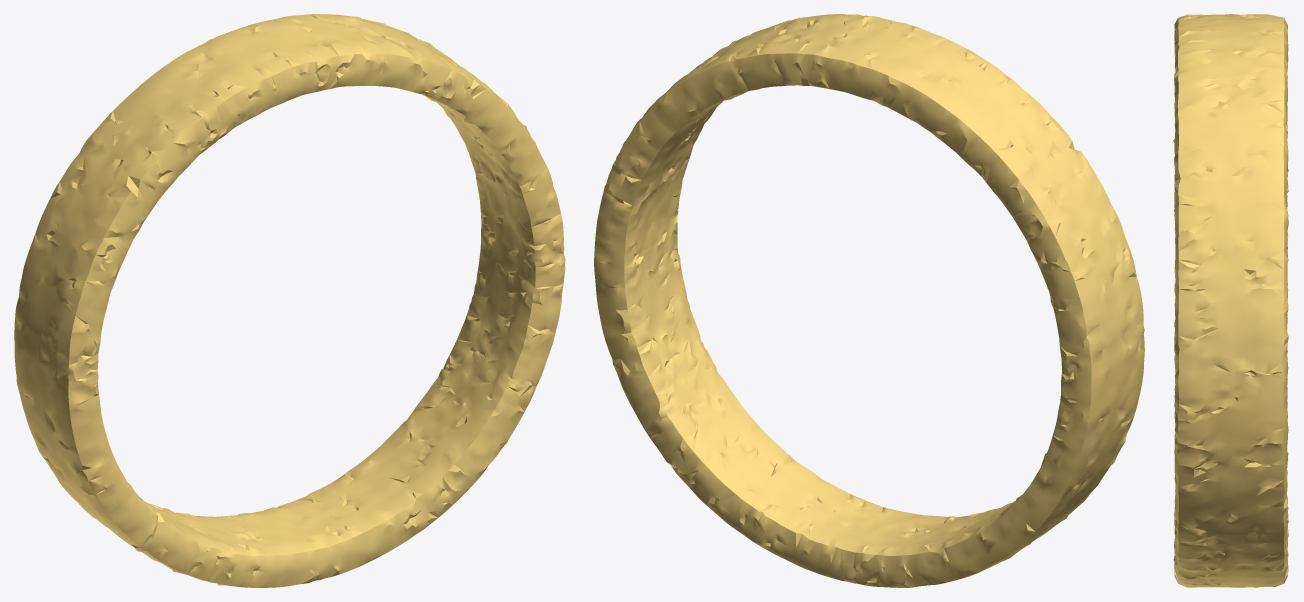
File: JohnPygwb_blender.glb
3 views of the same model, side by side, from view 1: azimuth 30°, elevation 25°; view 2: azimuth 150°, elevation 25°; view 3: azimuth 270°, elevation 25° (orthographic).
Parts seen in each view (by area): view 1: John mesh YG for 3d model; view 2: John mesh YG for 3d model; view 3: John mesh YG for 3d model.
Boxes of the visible parts, x1,y1,x2,y2 form: John mesh YG for 3d model: [14, 14, 565, 587]; John mesh YG for 3d model: [594, 14, 1144, 587]; John mesh YG for 3d model: [1173, 14, 1289, 587].
Size of the model in its own units: 22.5 by 22.48 by 4.57.
